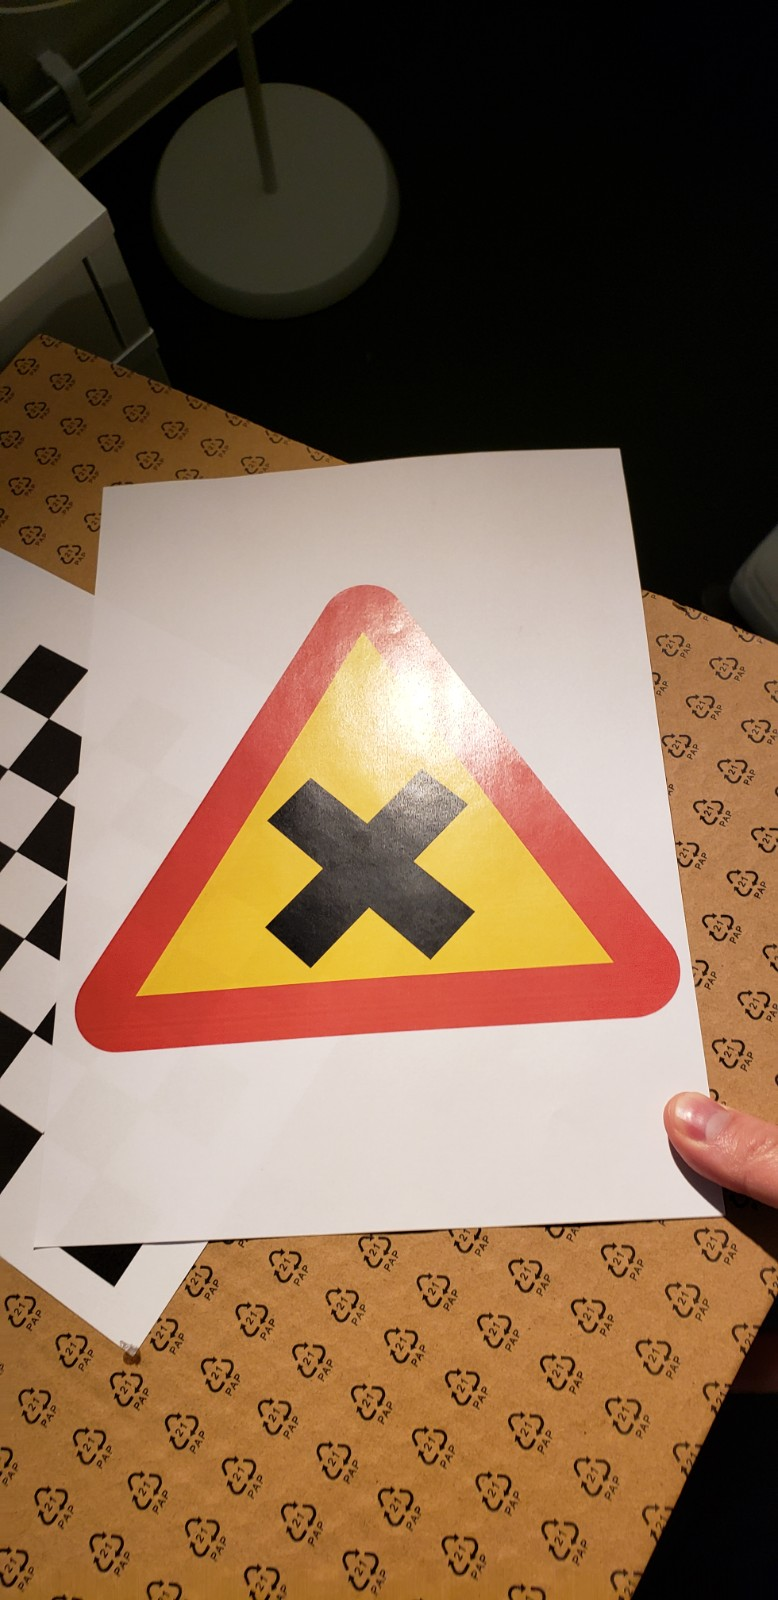junction: (57, 530, 707, 1093)
